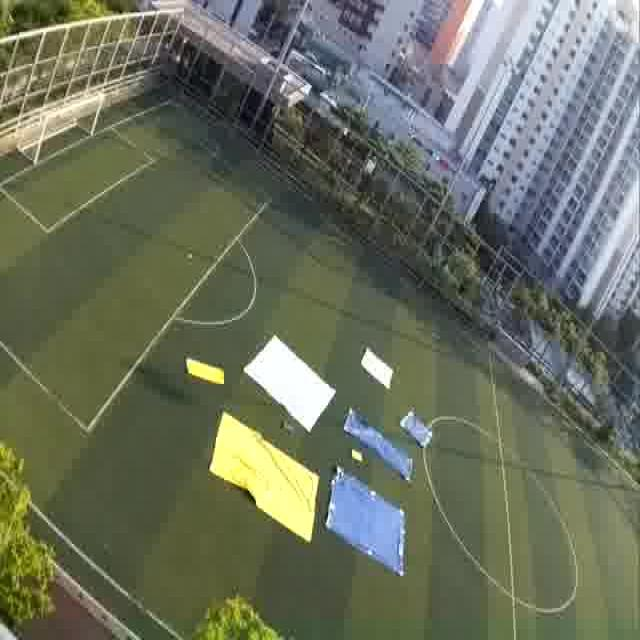danger: (327, 481, 405, 565), (345, 408, 386, 448), (399, 406, 434, 448)
safety: (253, 348, 331, 414), (361, 340, 395, 390)
warning: (212, 444, 317, 532), (184, 354, 227, 392)
